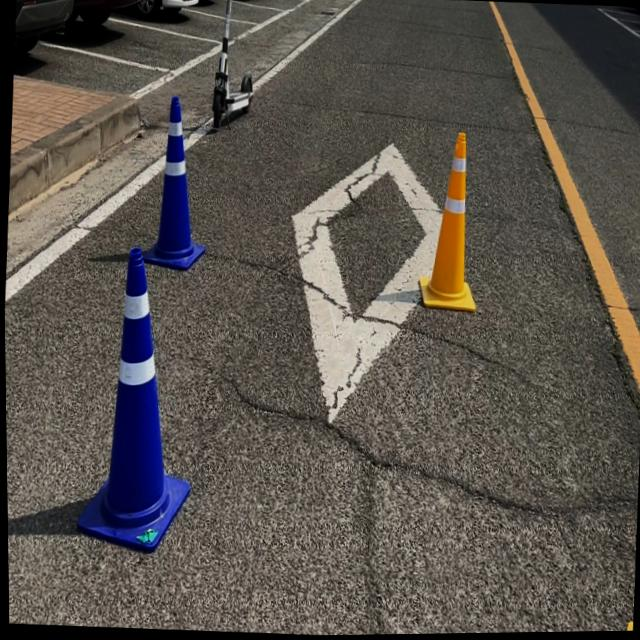b_rub: (75, 247, 188, 552), (142, 94, 205, 269)
y_rub: (419, 133, 475, 313)
